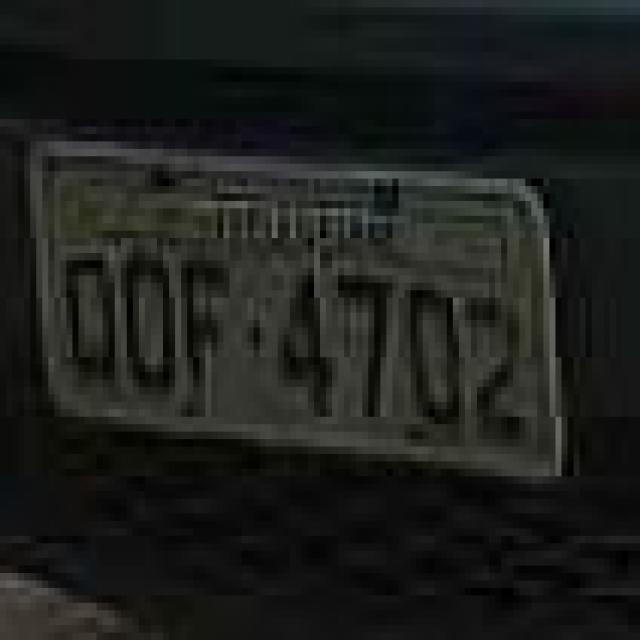0: (61, 238, 120, 406), (404, 291, 462, 431)
4: (274, 261, 336, 420)
7: (345, 273, 399, 429)
F: (182, 241, 241, 428)
O: (124, 245, 178, 404)
